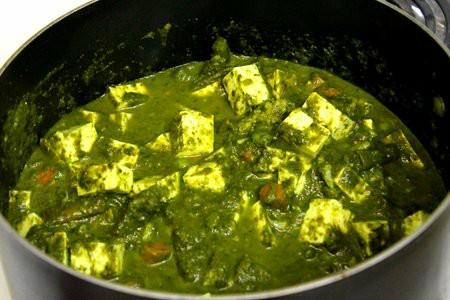PalakPaneer: (9, 38, 450, 300)
